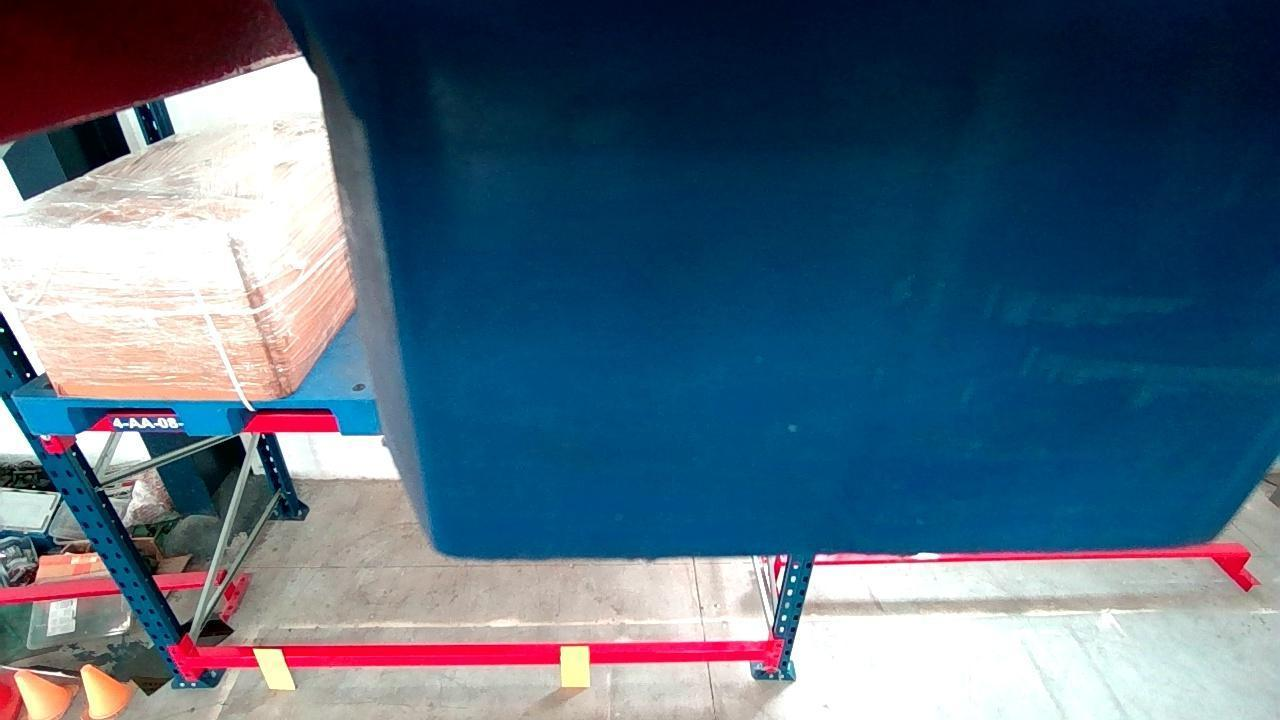h_rack: (181, 646, 783, 670), (97, 409, 384, 430)
orange_strip: (252, 647, 297, 687), (562, 642, 589, 687)
small_pallet: (13, 396, 382, 435)
